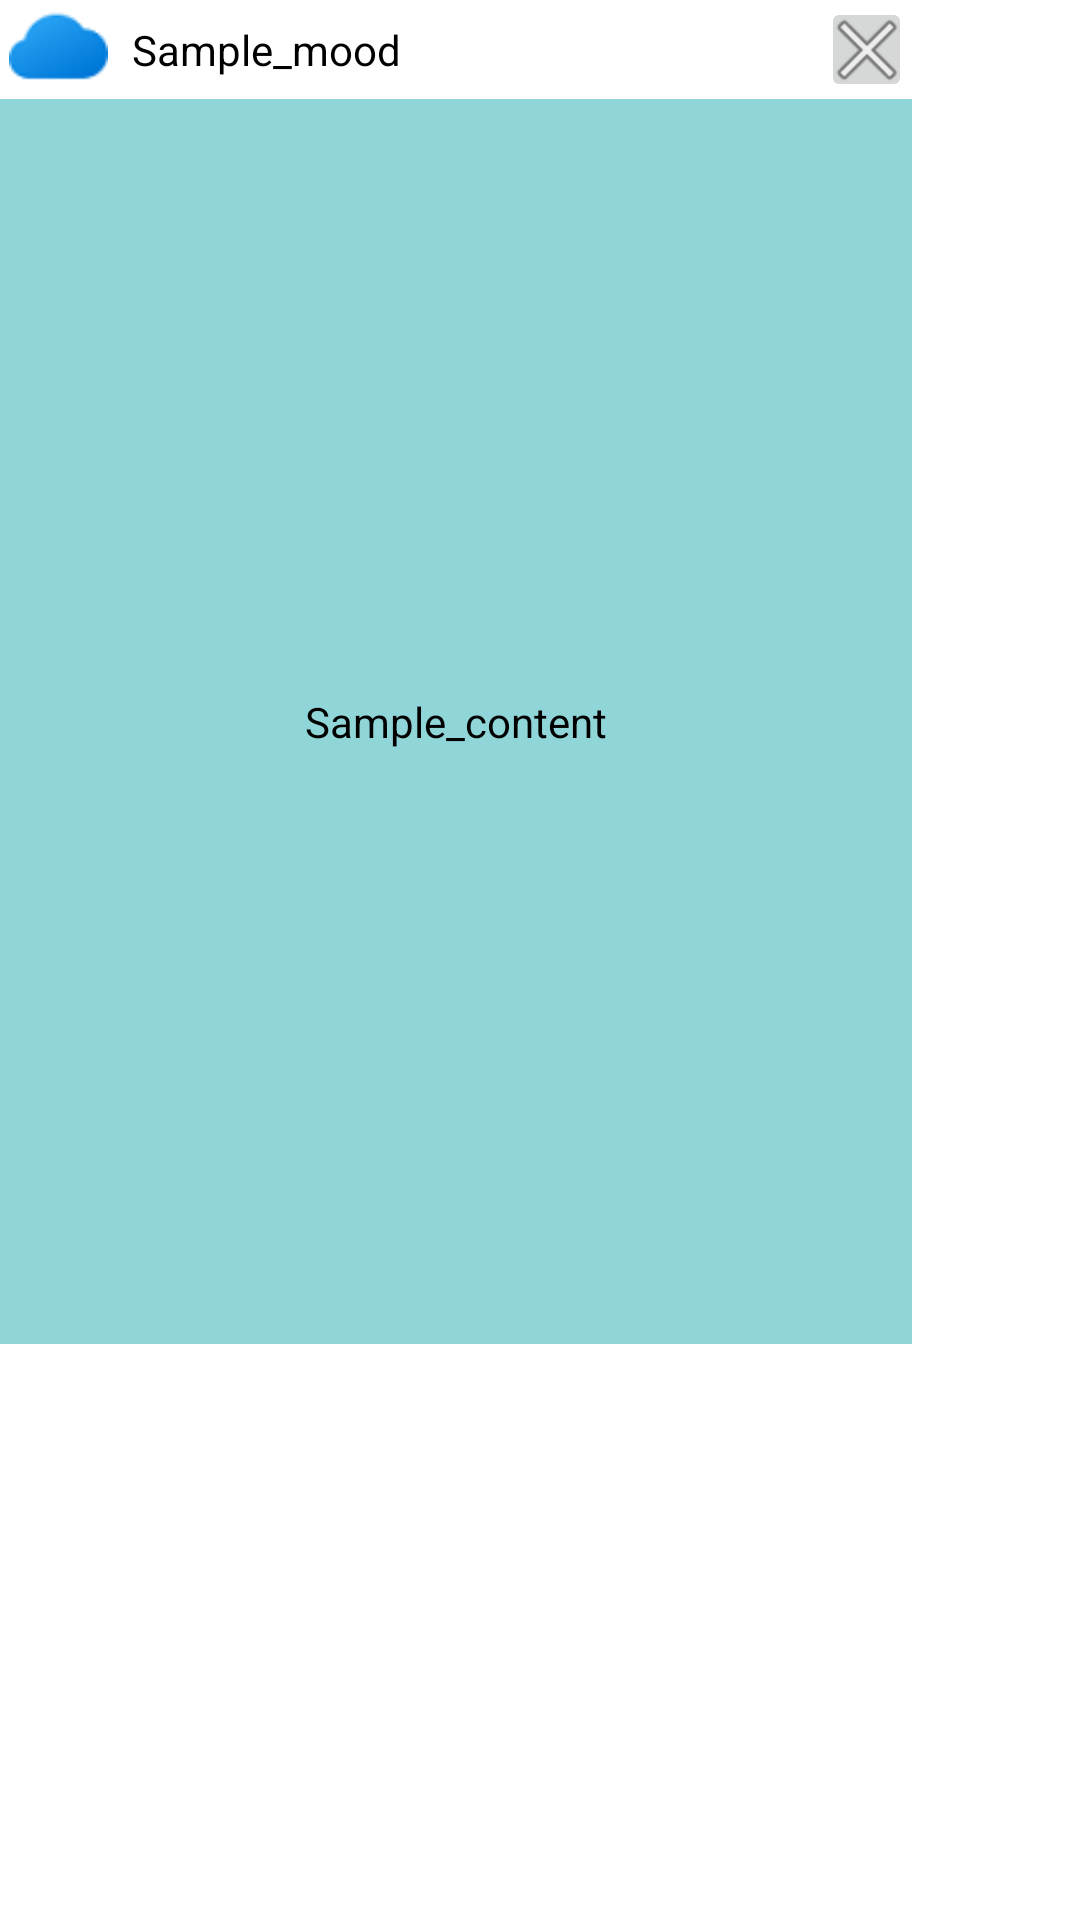

Where to tap for icons on this 1080px×1920px app screen, as (x=x, y=y):
close clear cancel: (x=866, y=49)
clouds: (x=58, y=46)
